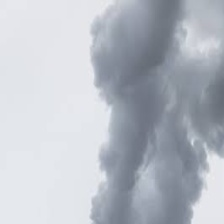smoke: (86, 1, 224, 218)
